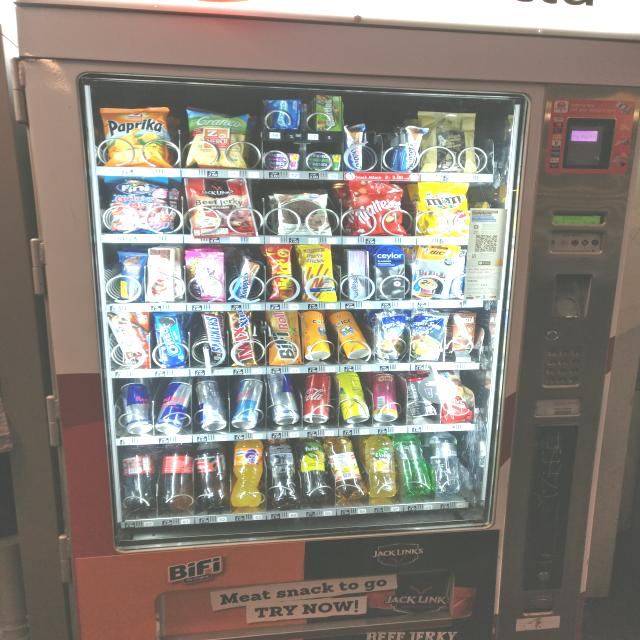7days_croissantschoko_packung_80_1_0000000000003: (438, 372, 472, 419)
airwaves_menthoneucalyptus_riegel_14_1_50173167: (264, 96, 302, 131)
berger_schoggitoertli____: (273, 190, 334, 235)
bifi_roll__50__4251097402635: (263, 308, 304, 364)
bueno___43__4008400320328: (108, 310, 153, 370)
c-swiss_dosenabisicetea__33__9120025930135: (329, 308, 374, 359), (299, 308, 331, 361)
caferoyal_classicmacchiato__33__7617014164487: (405, 372, 440, 418)
caprisun_multivitamin__20__4000177605004: (374, 308, 410, 362), (409, 310, 447, 359)
coke__dose_33__54491472: (301, 370, 335, 423)
coke__flasche_50__54491472: (118, 444, 159, 512), (160, 443, 196, 509)
coke_zero_flasche_50__5449000131836: (194, 443, 232, 508)
comella_schokodrink__33__7613100037253: (449, 312, 475, 353)
fanta___50__40822938: (230, 442, 267, 511)
fini_galaxymix_packung_100_1_8410525150364: (103, 174, 175, 234)
fini_jellykisses_packung_80_1_8410525116704: (188, 251, 225, 296)
fuse_lemon__50__5449000235947: (296, 436, 334, 504)
fuse_lemon_dose_33__5449000235947: (338, 374, 371, 424)
jacklinks_beefjerkyorginal__25__4047751730219: (181, 176, 261, 240)
jlbrichard_gauffrechoko__90__5410495002079: (422, 110, 477, 170)
kagi___50__7610046000259: (144, 247, 180, 302)
knoppers_riegel____4035800488808: (230, 258, 262, 299), (342, 123, 367, 171), (400, 125, 426, 171)
lorenz_nicnacs__40__4018077798818: (264, 241, 300, 299)
malburner_partysticks__40__7610200279682: (297, 243, 338, 303)
maltesers___100__5000159023061: (346, 178, 412, 234)
mnms_gelb__45__40111445: (413, 179, 475, 237)
oreo___66__84100733: (154, 312, 188, 367)
powerbar_proteinplusschoko__55__4029679520028: (116, 250, 147, 300)
ramseier_schorle__50__7610057012456: (325, 436, 370, 500)
redbull___33__90162909: (153, 380, 192, 434), (117, 380, 152, 434), (194, 380, 231, 430)
redbull_light__33__90162800: (231, 377, 268, 429)
skittles_sour_riegel_51_1_: (316, 94, 342, 132)
snickers___50__5000159461122: (198, 309, 230, 367)
stimorol_spearmint_riegel_14_1_: (301, 151, 343, 175)
stimorol_wildcherry_riegel_14_1_57060330: (262, 150, 300, 172)
tiki_himbeerbrause_dose_33_1_: (370, 372, 400, 421)
twix___50__5000159459228: (226, 311, 258, 364)
valser_classic__50__76404160: (396, 432, 434, 495)
valser_still__50__7610335002575: (424, 431, 462, 495)
volvic_pinapple__50__305764335648: (368, 433, 399, 499)
zweifel_graneochilli__100__7610095184009: (184, 107, 251, 168)
zweifel_paprika__90__7610095013002: (97, 104, 175, 165)
